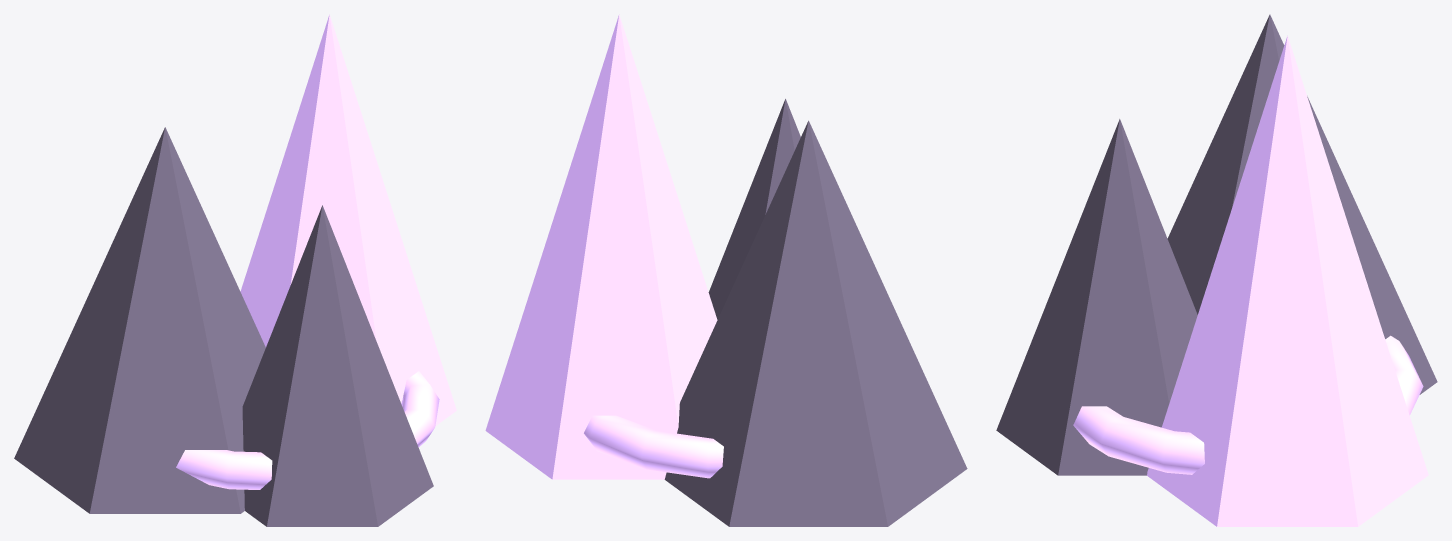
File: wormhole-rock.glb
The picture shows the model from 3 angles, left to right: view 1: azimuth 30°, elevation 25°; view 2: azimuth 150°, elevation 25°; view 3: azimuth 270°, elevation 25°; orthographic projection. The views are drawn at different scales.
Visible parts, largest first — view 1: mesh_wormhole_rock_body, mesh_wormhole_rock_accent; view 2: mesh_wormhole_rock_body, mesh_wormhole_rock_accent; view 3: mesh_wormhole_rock_accent, mesh_wormhole_rock_body.
Boxes of the visible parts, <box> form: mesh_wormhole_rock_body: <box>14,127,433,526</box>; mesh_wormhole_rock_accent: <box>176,14,456,489</box>; mesh_wormhole_rock_body: <box>664,99,967,526</box>; mesh_wormhole_rock_accent: <box>485,14,723,479</box>; mesh_wormhole_rock_accent: <box>1073,36,1428,526</box>; mesh_wormhole_rock_body: <box>996,14,1437,475</box>.
Bounding box in the file's own units: 0.5531 × 0.55 × 0.5.
